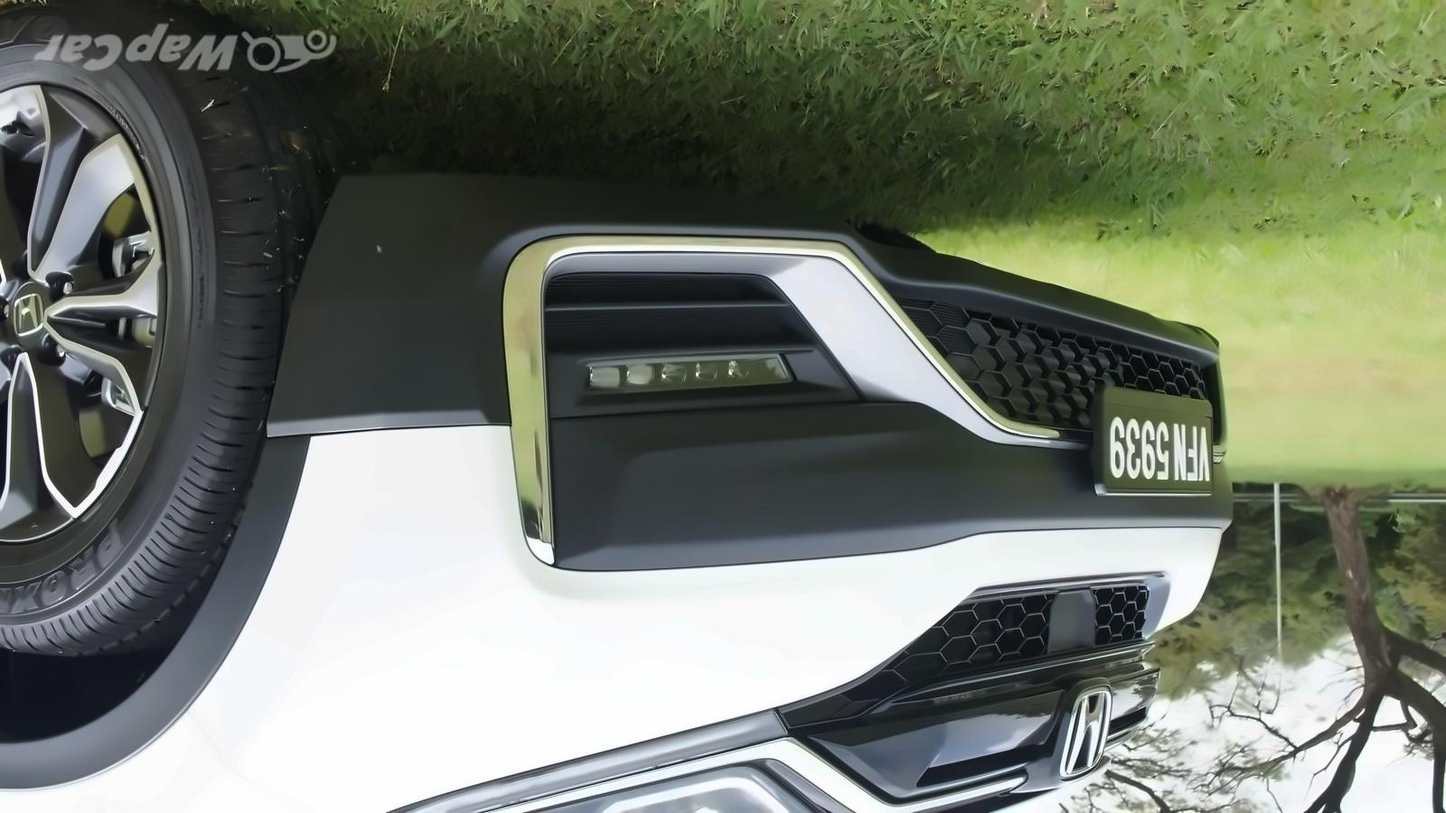Front bumper: (244, 160, 1253, 586)
